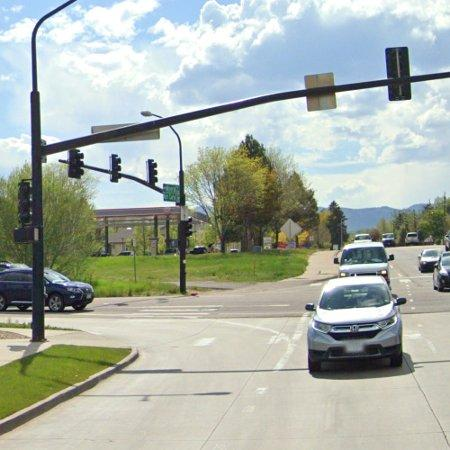cars: (306, 278, 408, 373), (335, 243, 395, 286), (45, 269, 94, 312), (0, 269, 31, 310), (434, 256, 450, 292)
